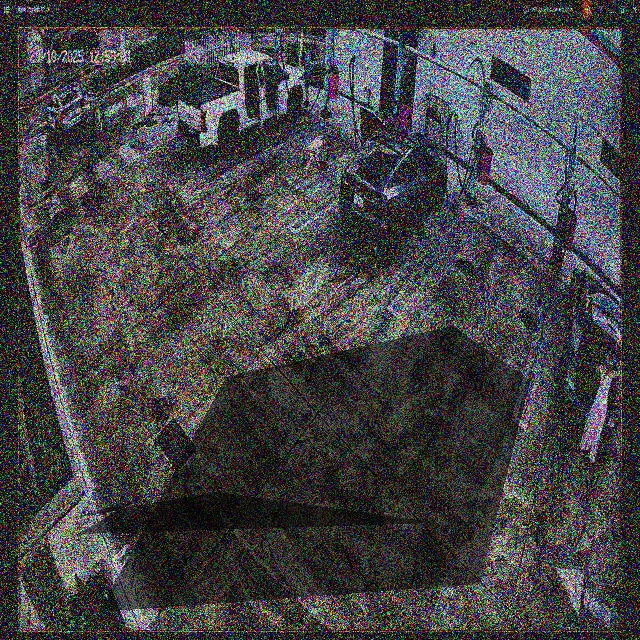Car: (339, 111, 448, 256), (178, 49, 305, 154)
